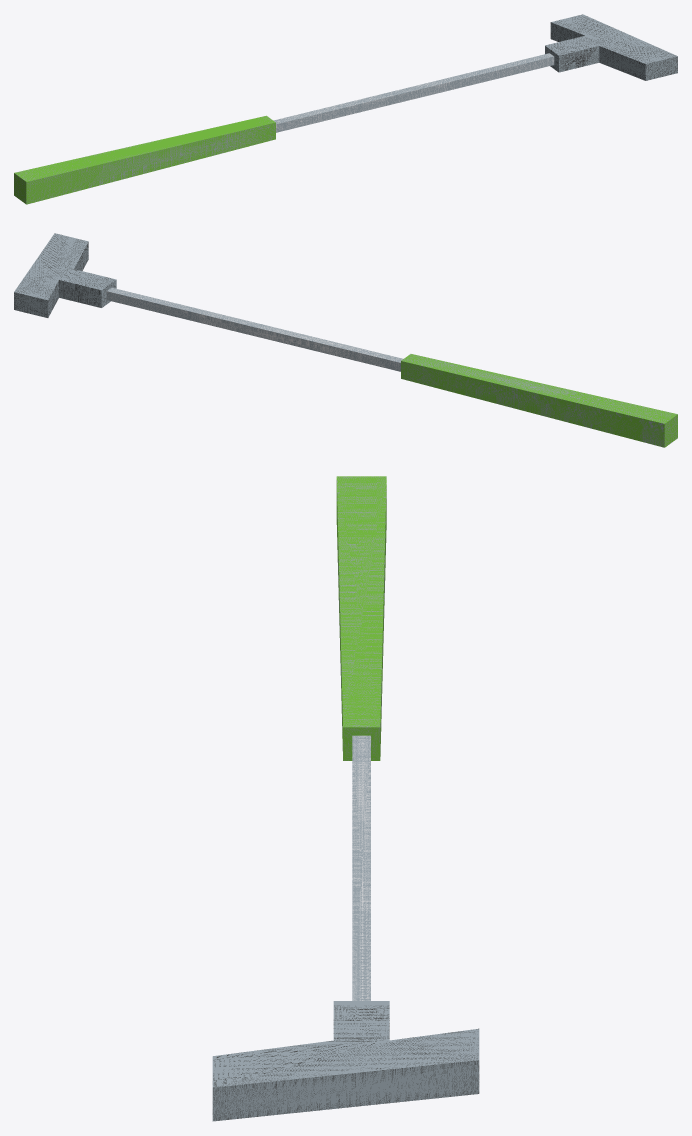
Rendered from Club_green_01.obj.
3 renders of one model, top to bottom at view 1: azimuth 30°, elevation 25°; view 2: azimuth 150°, elevation 25°; view 3: azimuth 270°, elevation 25°, orthographic. The views are drawn at different scales.
Visible parts, largest first — view 1: Mesh1 Club_green Model; view 2: Mesh1 Club_green Model; view 3: Mesh1 Club_green Model.
Boxes of the visible parts, left/top/right/bottom form: Mesh1 Club_green Model: left=14, top=14, right=677, bottom=204; Mesh1 Club_green Model: left=14, top=233, right=677, bottom=447; Mesh1 Club_green Model: left=212, top=476, right=479, bottom=1121.
Bounding box in the file's own units: 2.75 × 0.0959 × 0.5124.
